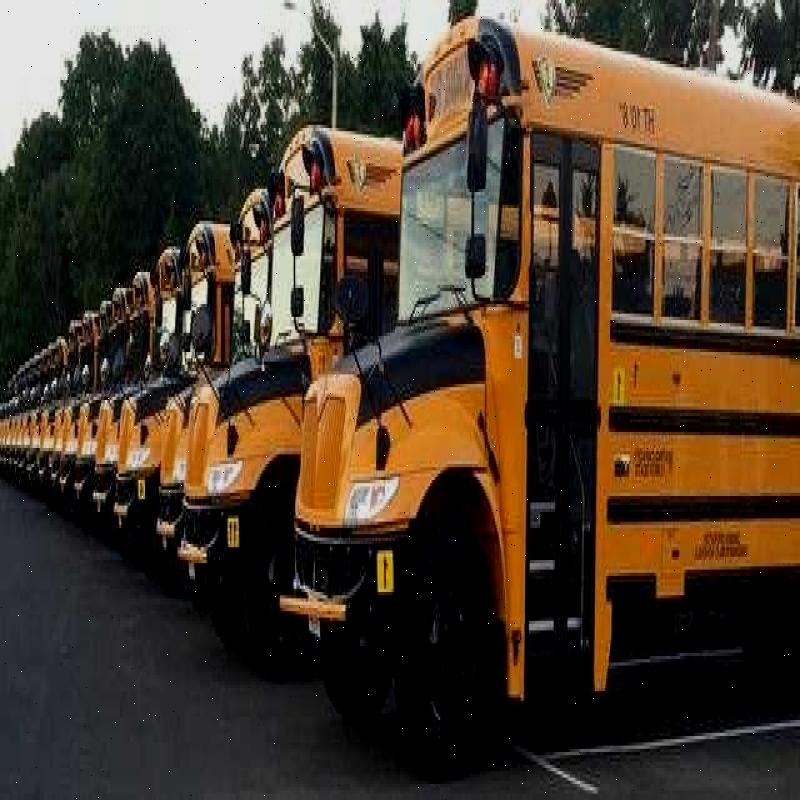bus: (301, 54, 795, 746), (182, 118, 297, 687), (112, 239, 155, 576)
